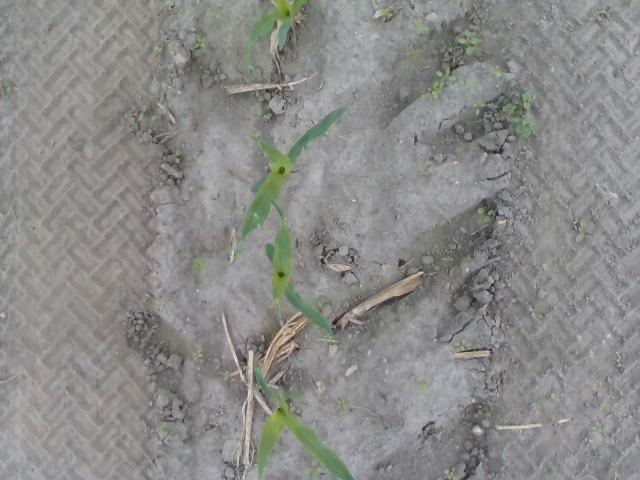Maize: (237, 104, 351, 250), (255, 367, 357, 480), (264, 194, 334, 332), (242, 0, 310, 76)
Weeds: (502, 90, 541, 136), (426, 68, 456, 105), (457, 28, 482, 55), (492, 64, 511, 88), (432, 243, 452, 264), (574, 222, 592, 243), (476, 206, 492, 226), (472, 98, 487, 116), (415, 20, 433, 34), (190, 258, 208, 272), (419, 160, 434, 176), (256, 103, 272, 118), (529, 303, 543, 320), (308, 462, 322, 479), (450, 339, 471, 350), (442, 467, 458, 480), (476, 404, 492, 417), (462, 79, 480, 90), (374, 8, 393, 18), (407, 46, 418, 63), (336, 398, 348, 412), (368, 176, 383, 186), (530, 402, 542, 414), (310, 300, 322, 312), (192, 350, 204, 362), (418, 378, 429, 391), (207, 9, 224, 17), (0, 84, 13, 94), (592, 425, 602, 438), (224, 370, 234, 382), (194, 38, 206, 48), (208, 0, 225, 7), (175, 150, 182, 164), (288, 402, 296, 413), (180, 111, 190, 119), (322, 332, 332, 339), (158, 426, 166, 432), (322, 440, 328, 446)
